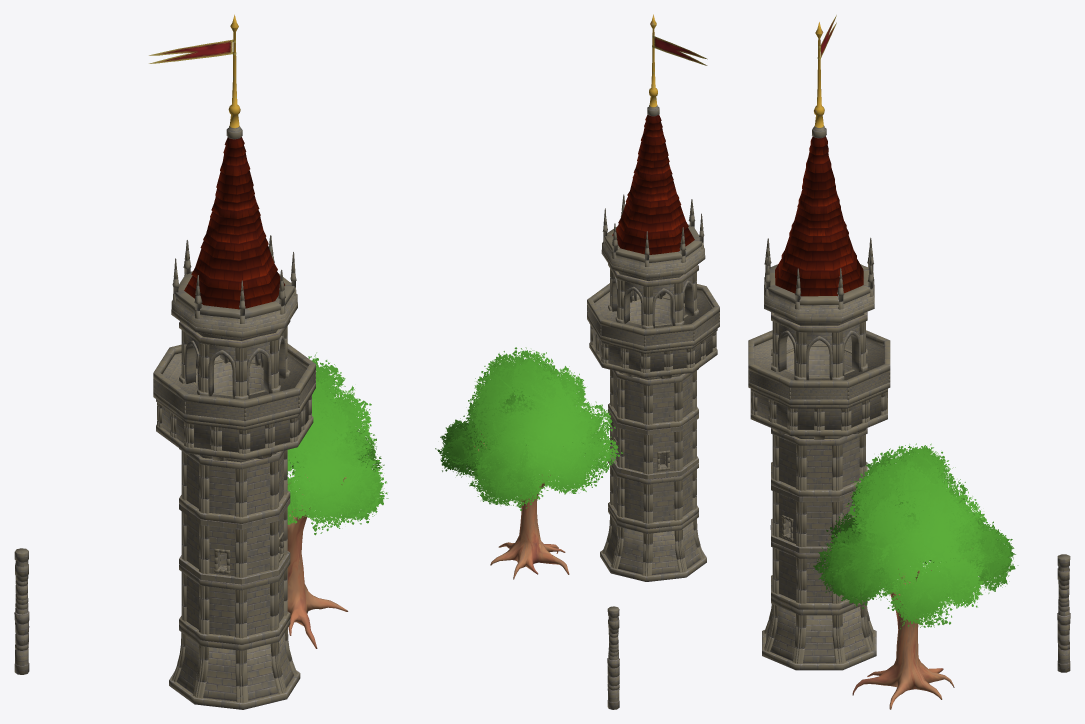
Rendered from cell_x0_z2_render.gltf.
The picture shows the model from 3 angles, left to right: view 1: azimuth 30°, elevation 25°; view 2: azimuth 150°, elevation 25°; view 3: azimuth 270°, elevation 25°; orthographic projection. The views are drawn at different scales.
Visible parts, largest first — view 1: SM_ENV_tree_castle_01_LOD0.041, SM_MOD_tower_segment_top_castle_LOD0.003, SM_MOD_tower_roof_castle_LOD0.005, SM_MOD_tower_segment_base_castle_LOD0.005, SM_MOD_tower_segment_wall_castle_LOD0.015, SM_MOD_tower_segment_wall_castle_LOD0.005, SM_MOD_tower_segment_window_castle_LOD0.013, SM_MOD_tower_segment_top_deco_castle_LOD0.011, SM_MOD_tower_roof_deco_flag_castle_LOD0.013, SM_MOD_deco_flying_buttress_ext_castle_LOD0.004, SM_MOD_tower_part_arch_castle_LOD0.060, SM_MOD_tower_part_arch_castle_LOD0.005 (+2 smaller); view 2: SM_ENV_tree_castle_01_LOD0.041, SM_MOD_tower_segment_top_castle_LOD0.003, SM_MOD_tower_roof_castle_LOD0.005, SM_MOD_tower_segment_base_castle_LOD0.005, SM_MOD_tower_segment_wall_castle_LOD0.015, SM_MOD_tower_segment_wall_castle_LOD0.005, SM_MOD_tower_segment_window_castle_LOD0.013, SM_MOD_tower_segment_top_deco_castle_LOD0.011, SM_MOD_deco_flying_buttress_ext_castle_LOD0.004, SM_MOD_tower_part_arch_castle_LOD0.002, SM_MOD_tower_part_arch_castle_LOD0.024, SM_MOD_tower_roof_deco_flag_castle_LOD0.013 (+1 smaller); view 3: SM_ENV_tree_castle_01_LOD0.041, SM_MOD_tower_segment_top_castle_LOD0.003, SM_MOD_tower_roof_castle_LOD0.005, SM_MOD_tower_segment_base_castle_LOD0.005, SM_MOD_tower_segment_wall_castle_LOD0.005, SM_MOD_tower_segment_top_deco_castle_LOD0.011, SM_MOD_tower_segment_window_castle_LOD0.013, SM_MOD_tower_segment_wall_castle_LOD0.015, SM_MOD_deco_flying_buttress_ext_castle_LOD0.004, SM_MOD_tower_part_arch_castle_LOD0.026, SM_MOD_tower_part_arch_castle_LOD0.068, SM_MOD_tower_part_arch_castle_LOD0.071 (+1 smaller).
Boxes of the visible parts, x1,y1,x2,y2 form: SM_ENV_tree_castle_01_LOD0.041: (287,352,388,648); SM_MOD_tower_segment_top_castle_LOD0.003: (153,343,315,462); SM_MOD_tower_roof_castle_LOD0.005: (184,137,284,309); SM_MOD_tower_segment_base_castle_LOD0.005: (169,619,300,709); SM_MOD_tower_segment_wall_castle_LOD0.015: (179,552,290,644); SM_MOD_tower_segment_wall_castle_LOD0.005: (179,448,290,523); SM_MOD_tower_segment_window_castle_LOD0.013: (179,498,290,584); SM_MOD_tower_segment_top_deco_castle_LOD0.011: (171,235,297,340); SM_MOD_tower_roof_deco_flag_castle_LOD0.013: (149,14,242,139); SM_MOD_deco_flying_buttress_ext_castle_LOD0.004: (14,548,29,674); SM_MOD_tower_part_arch_castle_LOD0.060: (200,337,241,399); SM_MOD_tower_part_arch_castle_LOD0.005: (241,332,279,399); SM_ENV_tree_castle_01_LOD0.041: (435,347,622,579); SM_MOD_tower_segment_top_castle_LOD0.003: (587,283,719,379); SM_MOD_tower_roof_castle_LOD0.005: (612,114,694,254); SM_MOD_tower_segment_base_castle_LOD0.005: (600,508,706,581); SM_MOD_tower_segment_wall_castle_LOD0.015: (608,453,698,528); SM_MOD_tower_segment_wall_castle_LOD0.005: (608,368,698,430); SM_MOD_tower_segment_window_castle_LOD0.013: (608,409,698,479); SM_MOD_tower_segment_top_deco_castle_LOD0.011: (601,194,705,280); SM_MOD_deco_flying_buttress_ext_castle_LOD0.004: (607,606,619,709); SM_MOD_tower_part_arch_castle_LOD0.002: (647,277,681,328); SM_MOD_tower_part_arch_castle_LOD0.024: (617,274,647,329); SM_MOD_tower_roof_deco_flag_castle_LOD0.013: (647,14,707,116); SM_ENV_tree_castle_01_LOD0.041: (813,443,1018,709); SM_MOD_tower_segment_top_castle_LOD0.003: (748,330,890,439); SM_MOD_tower_roof_castle_LOD0.005: (775,136,863,296); SM_MOD_tower_segment_base_castle_LOD0.005: (762,598,876,670); SM_MOD_tower_segment_wall_castle_LOD0.005: (771,428,867,496); SM_MOD_tower_segment_top_deco_castle_LOD0.011: (764,237,874,325); SM_MOD_tower_segment_window_castle_LOD0.013: (771,485,859,553); SM_MOD_tower_segment_wall_castle_LOD0.015: (770,523,866,609); SM_MOD_deco_flying_buttress_ext_castle_LOD0.004: (1057,554,1070,672); SM_MOD_tower_part_arch_castle_LOD0.026: (799,325,839,380); SM_MOD_tower_part_arch_castle_LOD0.068: (771,314,800,380); SM_MOD_tower_part_arch_castle_LOD0.071: (838,314,867,380).
Size of the model in its own units: 30.78 by 72.83 by 30.99.
6 materials, 6 textured.
